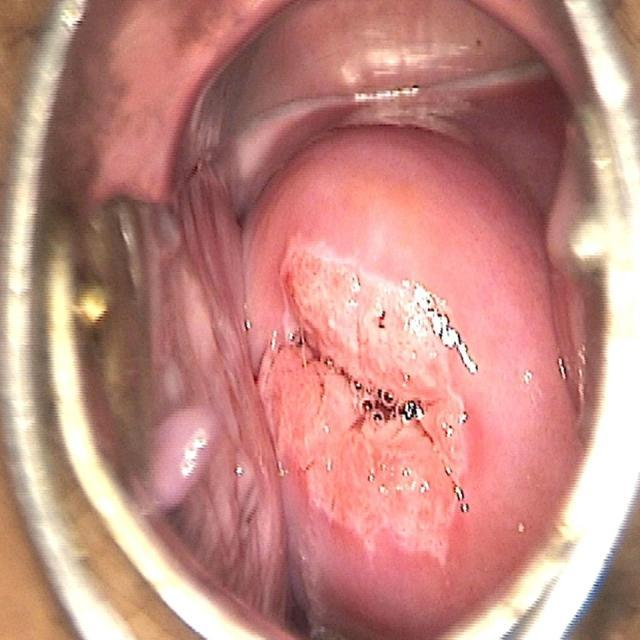cervical_lesion: (248, 222, 505, 603)
